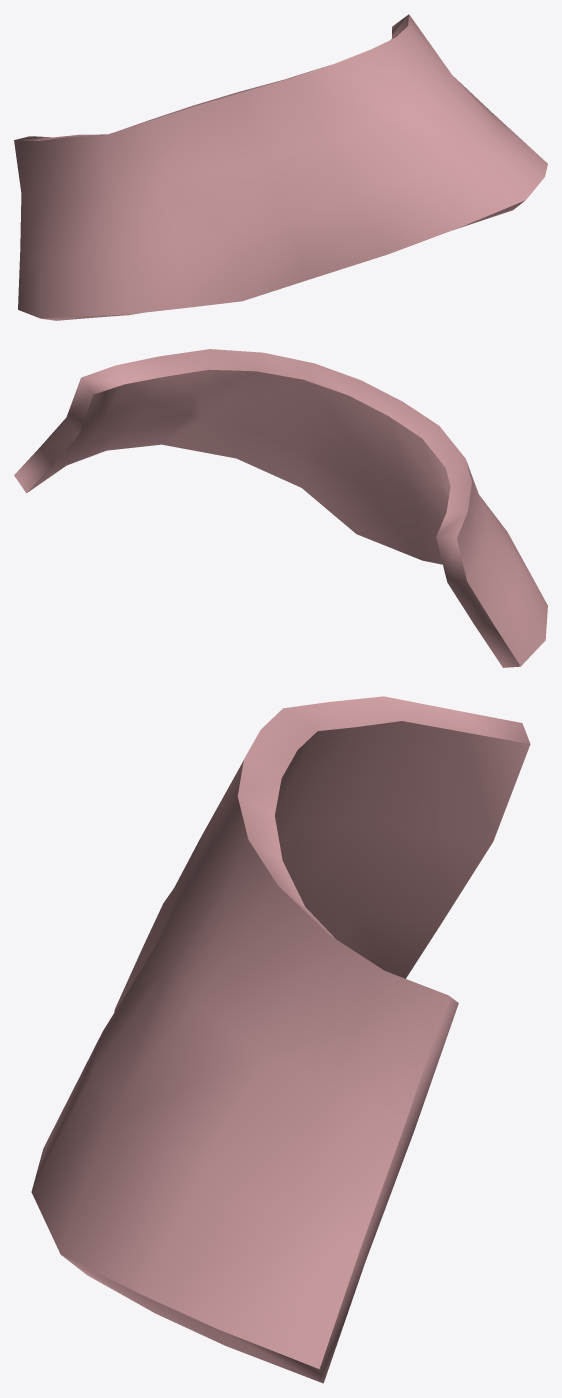
3 views of the same model, one above another, from view 1: azimuth 30°, elevation 25°; view 2: azimuth 150°, elevation 25°; view 3: azimuth 270°, elevation 25° (orthographic). The views are drawn at different scales.
Parts seen in each view (by area): view 1: ZA_1ce1f269edc6670a; view 2: ZA_1ce1f269edc6670a; view 3: ZA_1ce1f269edc6670a.
Boxes of the visible parts, x1,y1,x2,y2 form: ZA_1ce1f269edc6670a: (14,14,547,320); ZA_1ce1f269edc6670a: (14,349,547,667); ZA_1ce1f269edc6670a: (31,696,530,1383).
Size of the model in its own units: 0.0823 by 0.0329 by 0.0354.
